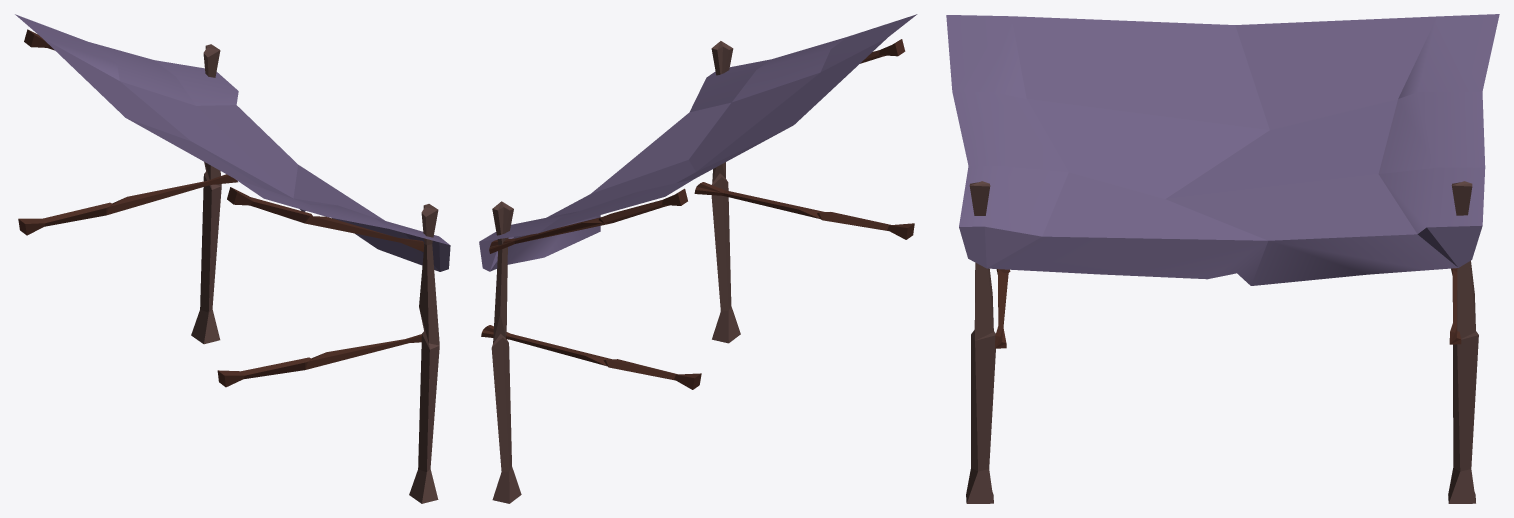
File: SM_L_Home_courtain.fbx
3 renders of one model, left to right at view 1: azimuth 30°, elevation 25°; view 2: azimuth 150°, elevation 25°; view 3: azimuth 270°, elevation 25°, orthographic. The views are drawn at different scales.
Visible parts, largest first — view 1: SM_L_Home_Courtain; view 2: SM_L_Home_Courtain; view 3: SM_L_Home_Courtain.
Part boxes in pixels (<box>): SM_L_Home_Courtain: <box>15,14,450,503</box>; SM_L_Home_Courtain: <box>479,14,917,503</box>; SM_L_Home_Courtain: <box>946,14,1499,503</box>.
Size of the model in its own units: 121 by 185 by 237.
Materials: 1 (1 with a texture image).
